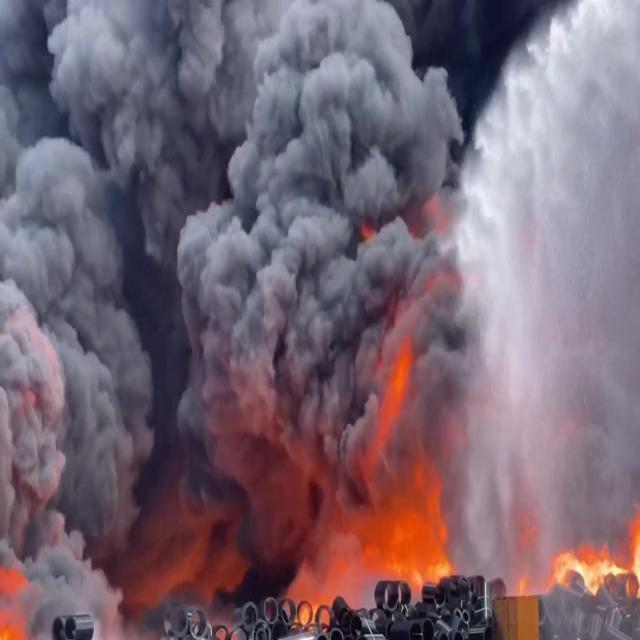Fire: (281, 448, 456, 621), (551, 501, 640, 599)
Smoke: (0, 0, 638, 542)
